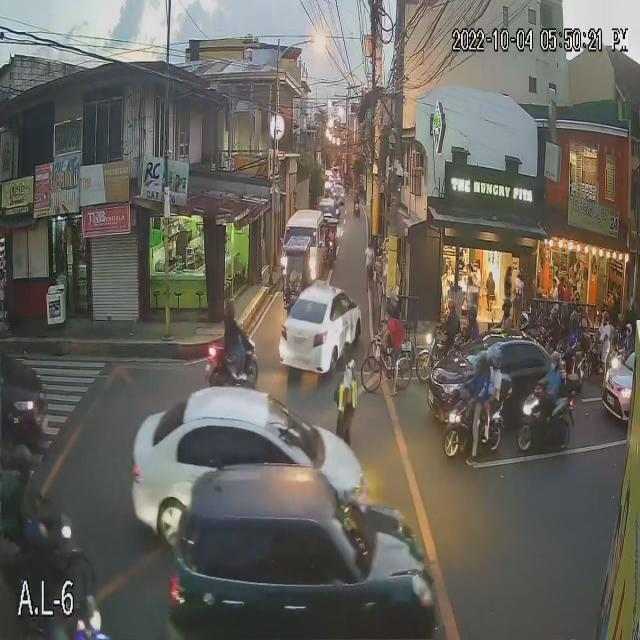helmet: (8, 447, 38, 479), (474, 349, 492, 379), (542, 354, 563, 376), (219, 298, 238, 322), (497, 297, 516, 316), (564, 314, 583, 333), (558, 299, 575, 319), (465, 302, 481, 323), (596, 311, 614, 328), (547, 306, 562, 323), (517, 312, 529, 333), (493, 348, 504, 369), (622, 321, 634, 340), (446, 299, 459, 315)
motorcycle: (0, 513, 102, 613), (439, 389, 508, 459), (516, 388, 583, 453), (199, 332, 263, 388), (416, 331, 461, 376), (578, 340, 616, 376), (612, 348, 628, 374), (351, 201, 360, 216)
rider: (1, 445, 41, 554), (481, 341, 509, 410), (540, 351, 567, 415), (467, 349, 491, 418), (222, 293, 245, 357), (594, 311, 614, 363), (562, 312, 582, 359), (466, 300, 483, 337), (441, 297, 460, 330), (622, 320, 634, 360), (515, 312, 534, 336), (499, 297, 512, 332), (559, 299, 571, 335), (549, 308, 559, 340)
